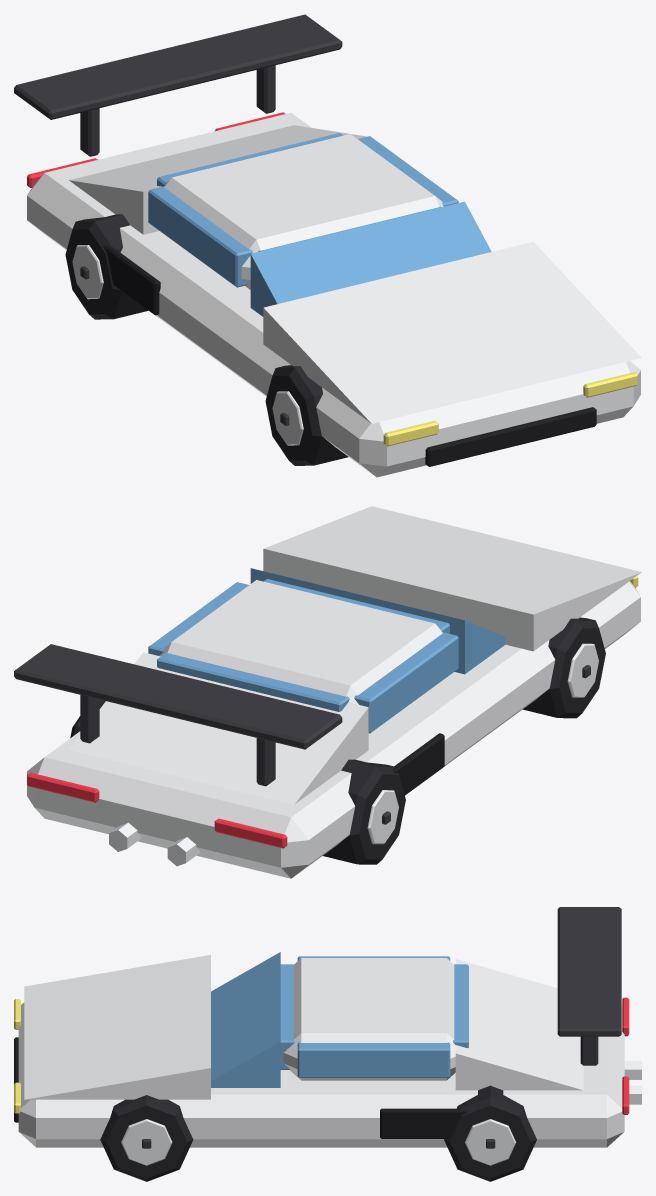
Rendered from WhiteSupercar.fbx.
3 views of the same model, one above another, from view 1: azimuth 30°, elevation 25°; view 2: azimuth 150°, elevation 25°; view 3: azimuth 270°, elevation 25° (orthographic). The views are drawn at different scales.
Parts seen in each view (by area): view 1: WhiteSupercar, WhiteSupercar_WheelBR, WhiteSupercar_WheelFR; view 2: WhiteSupercar, WhiteSupercar_WheelBR, WhiteSupercar_WheelFR; view 3: WhiteSupercar, WhiteSupercar_WheelBL, WhiteSupercar_WheelFL.
Boxes of the visible parts, x1,y1,x2,y2 form: WhiteSupercar: (14,14,641,477); WhiteSupercar_WheelBR: (65,214,148,319); WhiteSupercar_WheelFR: (265,365,348,465); WhiteSupercar: (14,506,641,878); WhiteSupercar_WheelBR: (323,759,405,864); WhiteSupercar_WheelFR: (523,617,605,718); WhiteSupercar: (14,907,641,1147); WhiteSupercar_WheelBL: (444,1085,536,1181); WhiteSupercar_WheelFL: (100,1095,193,1181).
Bounding box in the file's own units: 5.22 × 2.94 × 10.78.
1 material, 1 textured.
